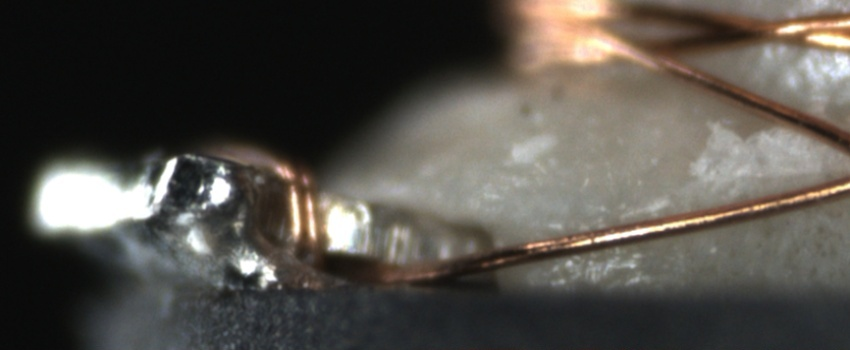TE: (221, 141, 327, 264)
